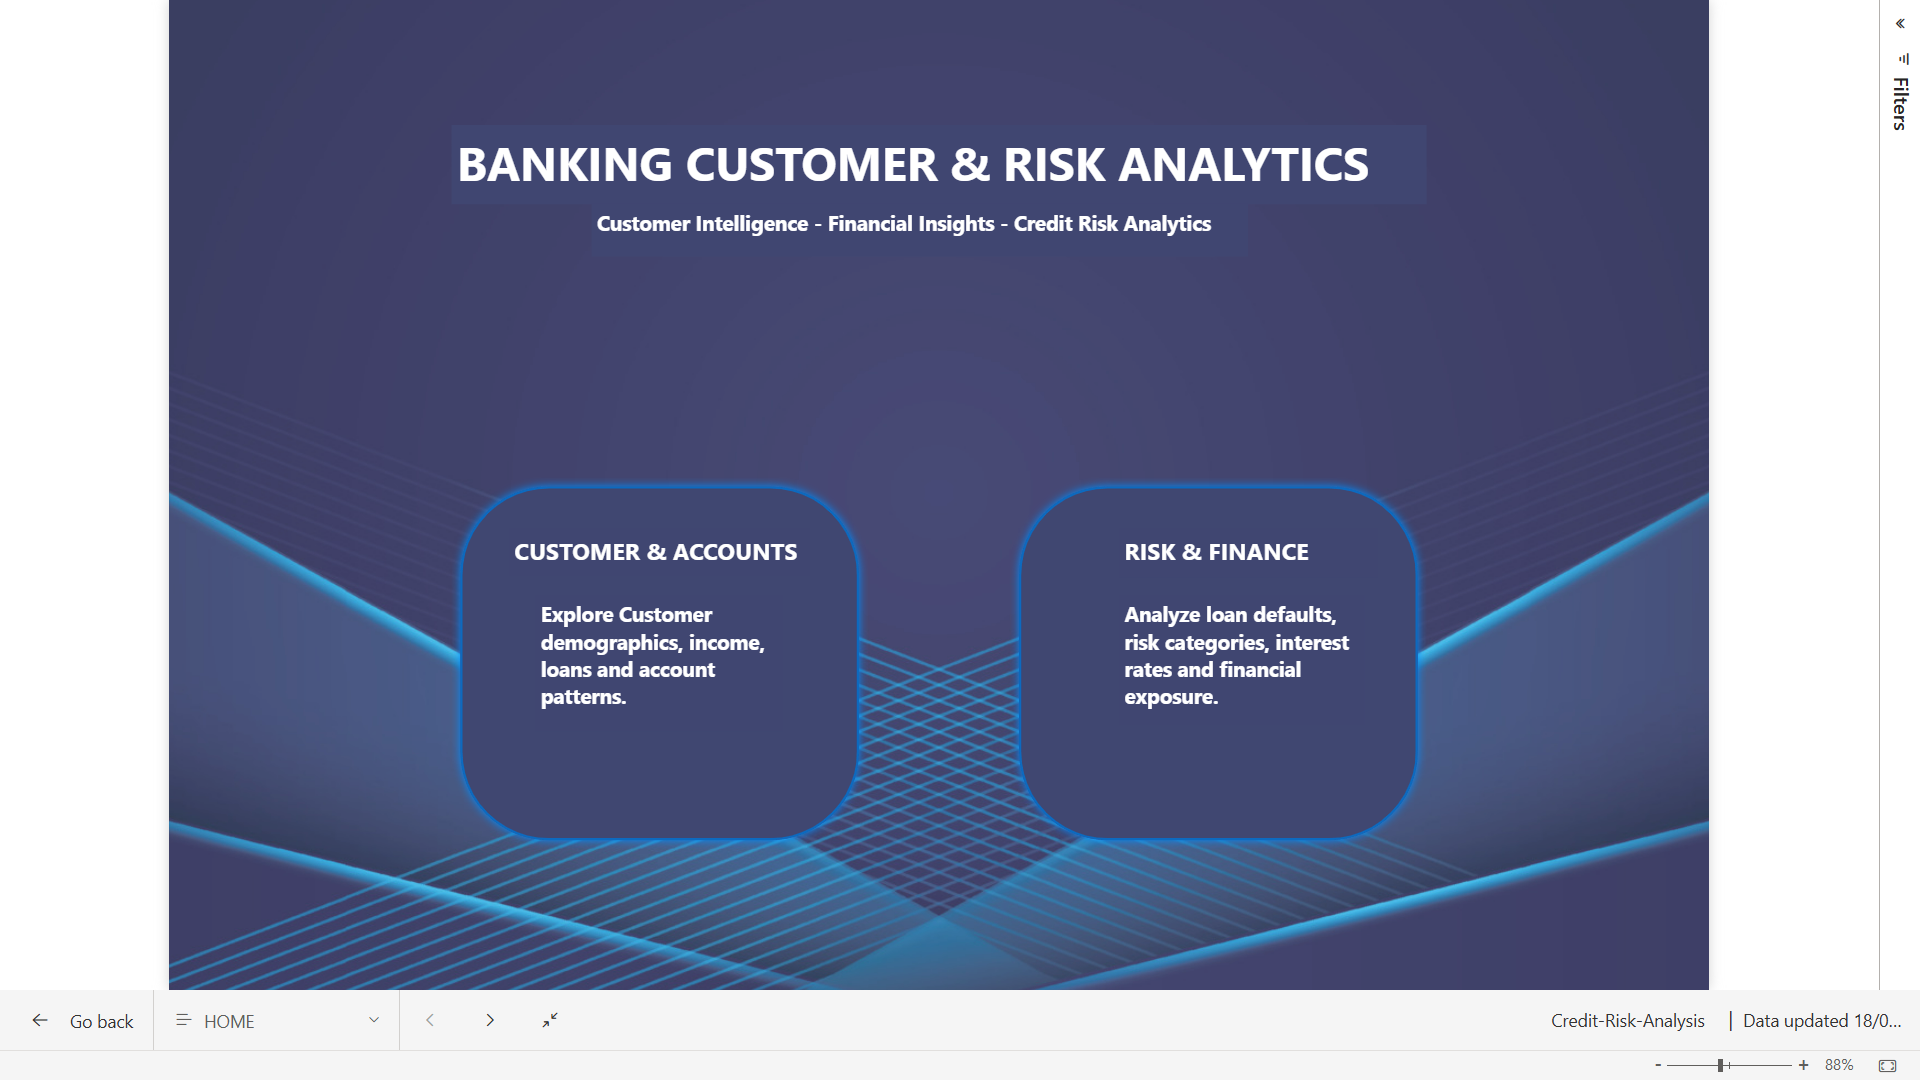

The page's visual inventory and layout, read from the dashboard file:
{"tool":"powerbi","page":{"name":"HOME","canvas":[1400,900],"ordinal":0},"visuals":[{"type":"textbox","box":[256.4,113.1,886.7,72.4],"z":0},{"type":"shape","box":[256.4,434.3,378.5,337.8],"z":1000},{"type":"textbox","box":[384.6,185.5,597.2,48.3],"z":2000},{"type":"shape","box":[764.6,434.3,378.5,337.8],"z":3000},{"type":"textbox","box":[309.2,481.1,273,42.2],"z":4000},{"type":"textbox","box":[333.3,541.4,224.7,123.7],"z":5000},{"type":"textbox","box":[864.1,481.1,235.3,43.7],"z":6000},{"type":"textbox","box":[864.1,541.4,223.2,117.6],"z":7000},{"type":"actionButton","box":[280.5,446.4,333.3,310.7],"z":8000},{"type":"actionButton","box":[781.2,446.4,342.3,310.7],"z":9000}]}

Visuals, with their boxes on the page's 1400x900 design canvas (x1, y1, x2, y2). These are canvas units, not pixel positions in the 1920x1080 screenshot, which may show the page scaled, cropped or inside an application window:
textbox: {"left": 256, "top": 113, "right": 1143, "bottom": 186}
shape: {"left": 256, "top": 434, "right": 635, "bottom": 772}
textbox: {"left": 385, "top": 186, "right": 982, "bottom": 234}
shape: {"left": 765, "top": 434, "right": 1143, "bottom": 772}
textbox: {"left": 309, "top": 481, "right": 582, "bottom": 523}
textbox: {"left": 333, "top": 541, "right": 558, "bottom": 665}
textbox: {"left": 864, "top": 481, "right": 1099, "bottom": 525}
textbox: {"left": 864, "top": 541, "right": 1087, "bottom": 659}
actionButton: {"left": 280, "top": 446, "right": 614, "bottom": 757}
actionButton: {"left": 781, "top": 446, "right": 1124, "bottom": 757}
